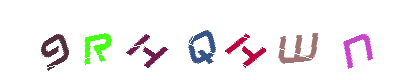9: (55, 0, 135, 80)
H: (162, 0, 242, 80), (206, 0, 286, 80)
N: (315, 0, 395, 80)
Q: (162, 0, 242, 80)
R: (56, 0, 136, 80)
W: (220, 0, 300, 80)
